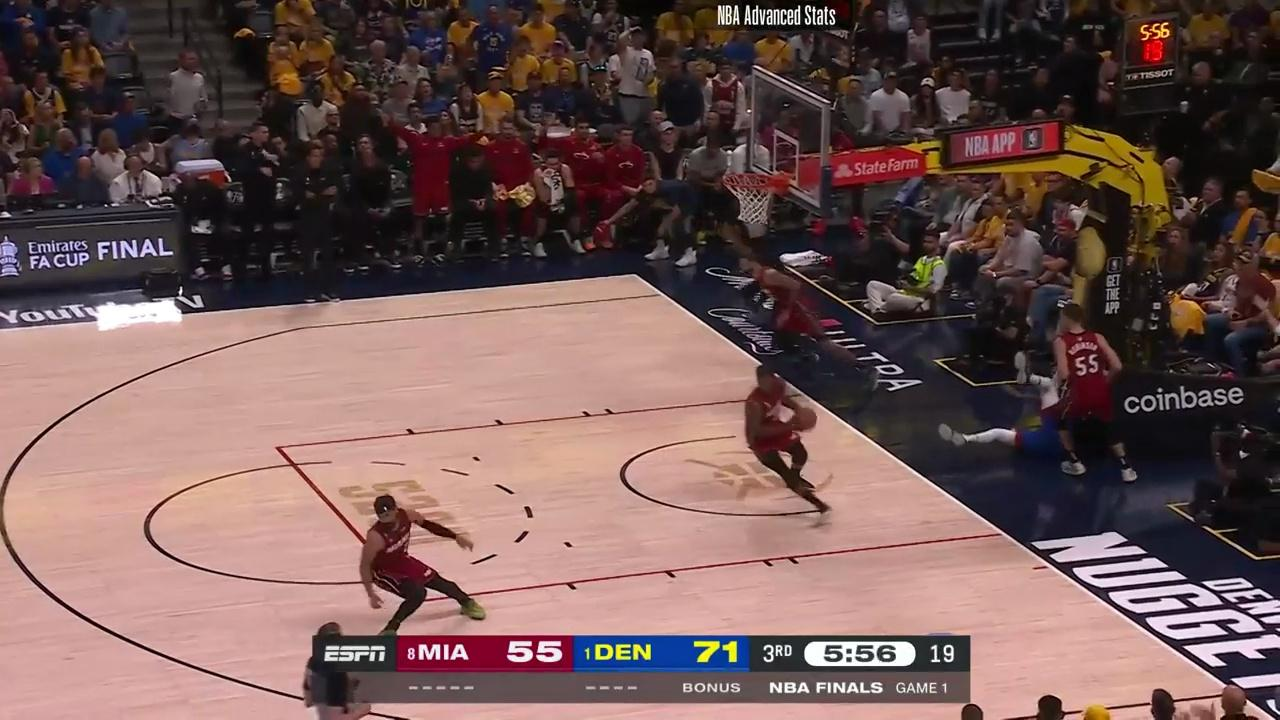Backboard: (746, 73, 837, 212)
Ball: (792, 407, 815, 430)
Basket: (725, 167, 784, 240)
Person: (734, 251, 883, 400), (355, 496, 496, 643), (1047, 296, 1139, 491), (735, 363, 834, 533)
Referee: (298, 627, 374, 720)
Shot Clock: (1120, 12, 1184, 114)
